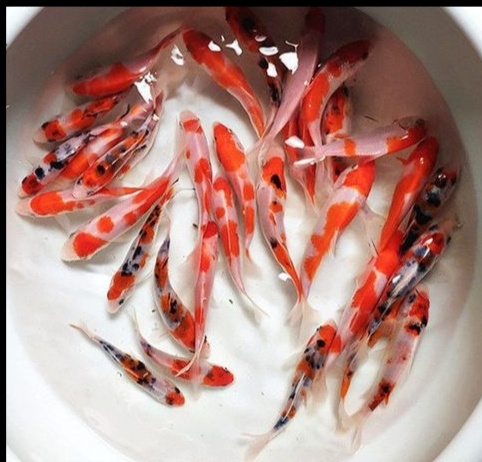fry: (258, 315, 351, 444), (253, 139, 312, 321), (302, 160, 386, 282), (361, 290, 437, 416), (369, 133, 436, 255), (262, 12, 330, 127), (379, 212, 462, 302), (59, 175, 149, 257), (146, 242, 210, 351), (304, 27, 374, 121), (310, 81, 367, 190), (186, 20, 252, 111), (146, 335, 245, 394), (206, 109, 258, 218), (206, 170, 249, 299), (64, 46, 164, 99), (96, 215, 149, 313), (102, 353, 184, 416), (221, 7, 284, 85), (22, 91, 119, 139), (407, 157, 465, 237), (340, 111, 428, 163), (176, 102, 214, 218), (190, 214, 224, 331), (76, 139, 144, 197), (16, 182, 118, 218), (67, 114, 131, 170), (12, 135, 68, 194)
